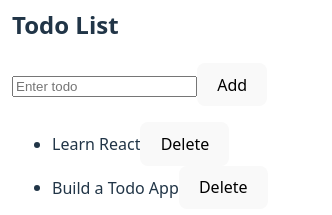
Test: TodoList Component › deletes a todo
Click the button with test id "delete-1": click(185, 144) [140, 122, 230, 166]
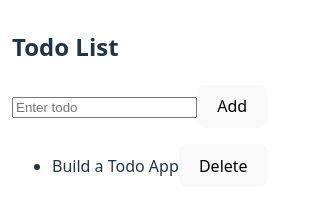
expect the list item "Learn React" is gone: met
